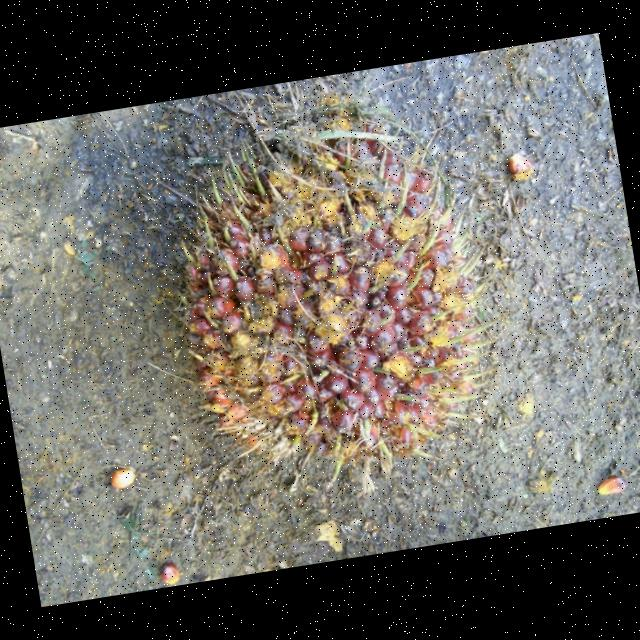Ripe: (187, 97, 483, 481)
